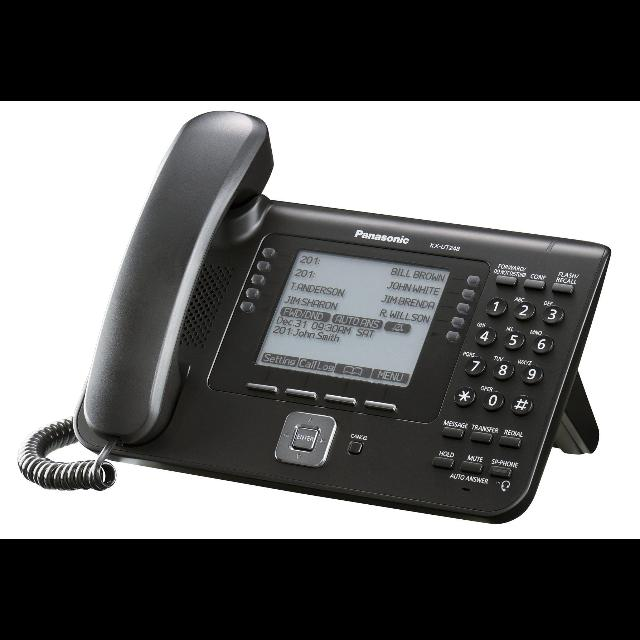Telephone-Set: (79, 107, 606, 523)
